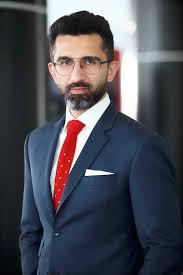middle_eastern_male: (52, 33, 109, 98)
